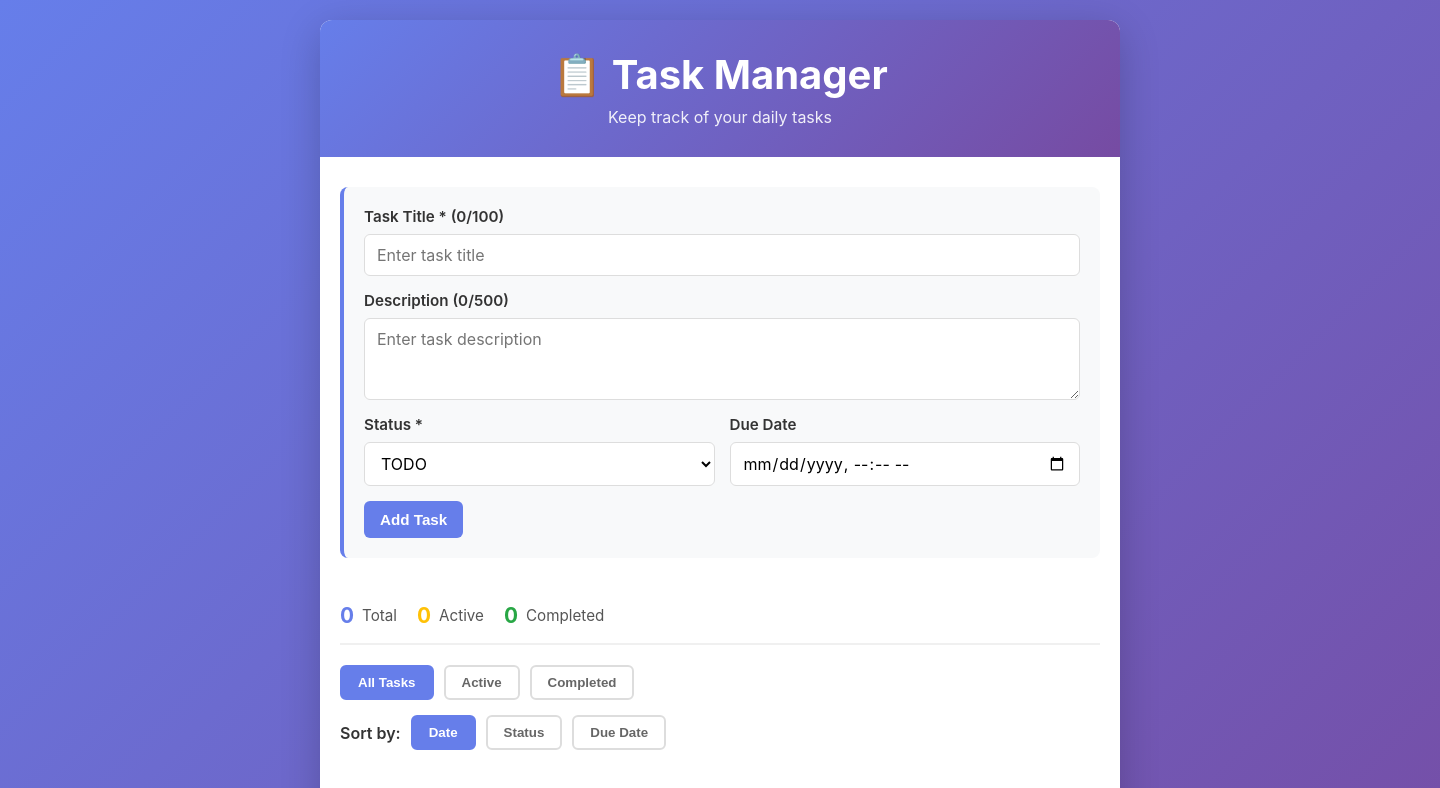
it: App Component - CRUD Operations › should display error when task creation fails
Type "New Task" into the field with placeholder "Enter task title" at (722, 255), box [364, 234, 1080, 276]
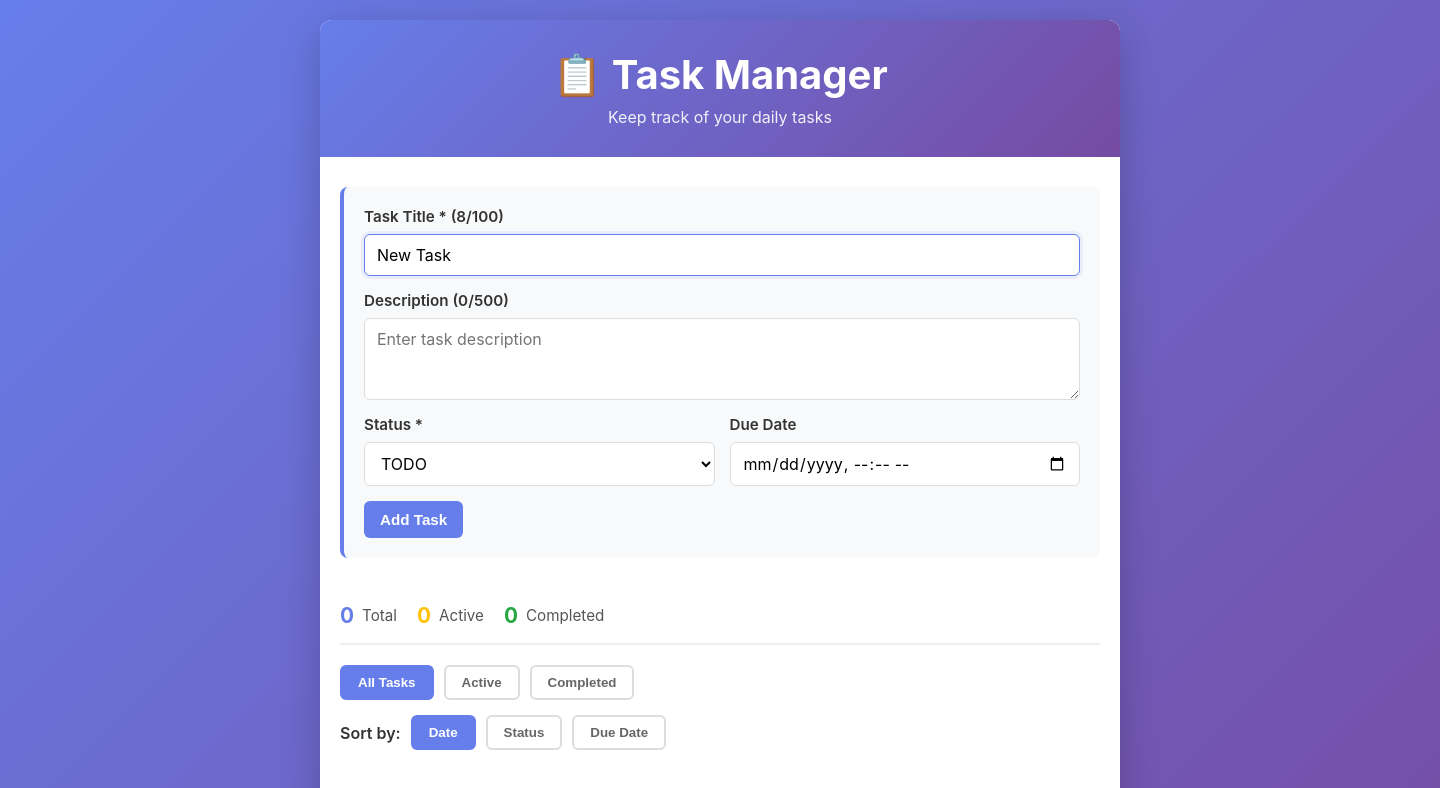
Click the button "Add Task" at (414, 520), box [364, 501, 463, 538]
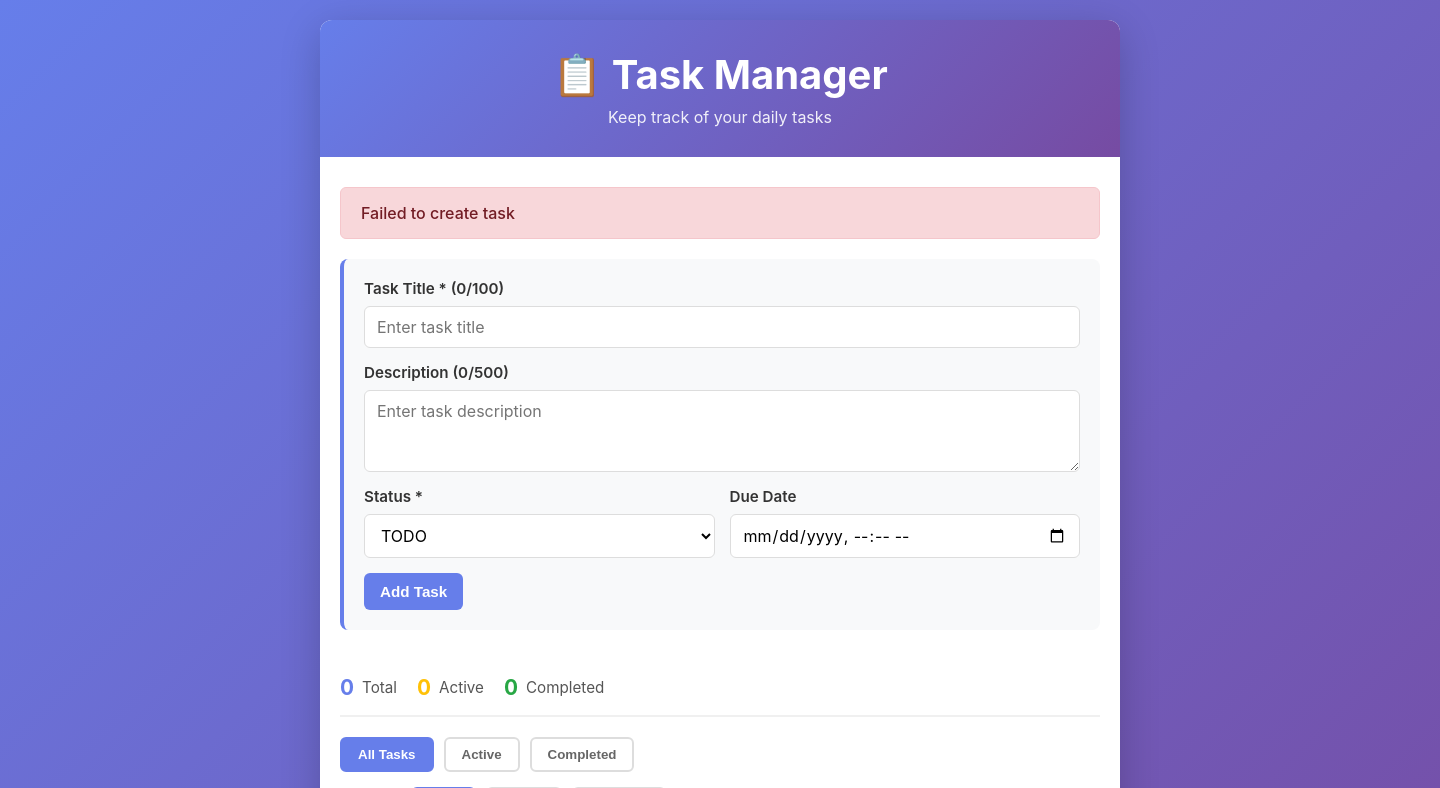
Expected: the text "Failed to create task" is shown, [340, 187, 1100, 239]
